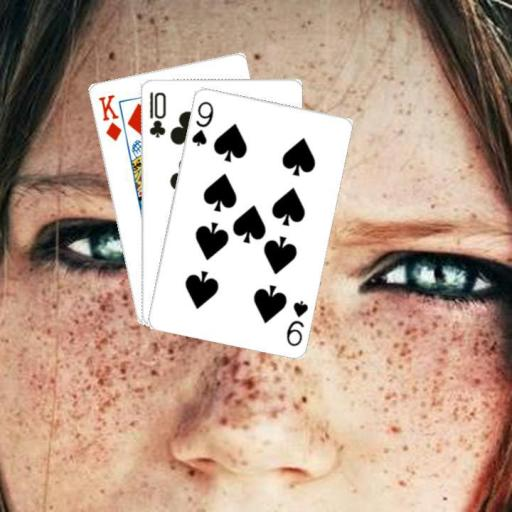10C: (146, 88, 167, 139)
9S: (188, 98, 215, 148), (283, 297, 309, 348)
KD: (95, 91, 123, 143)
